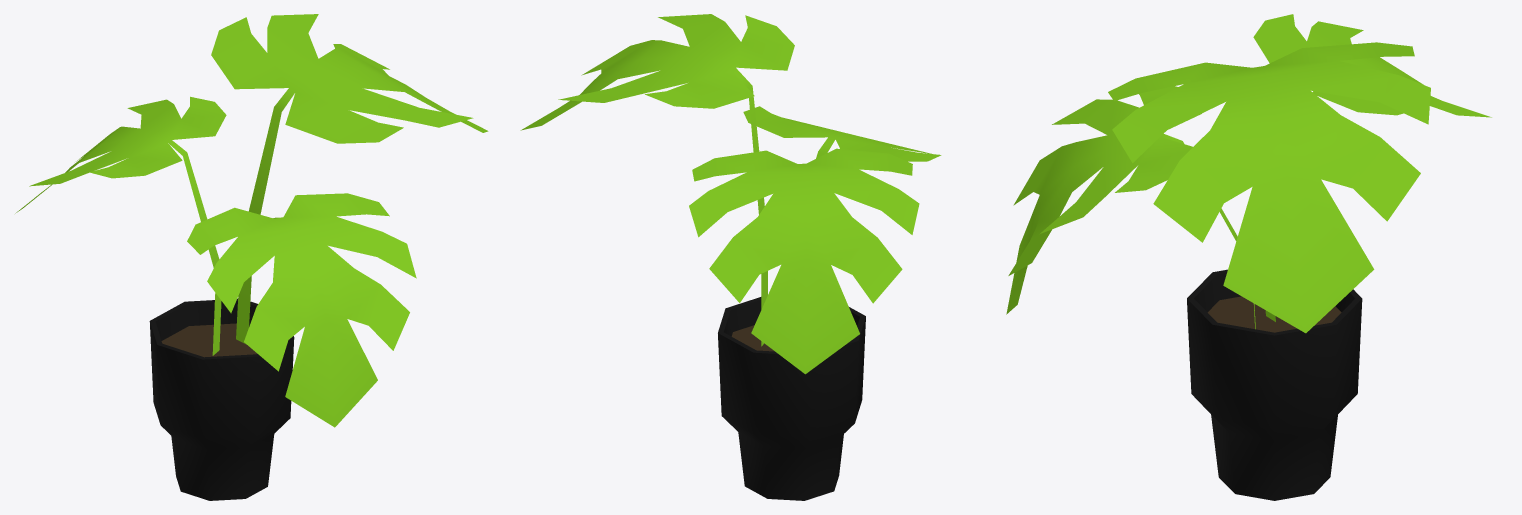
The model's file is q-houseplant-1.glb.
3 renders of one model, left to right at view 1: azimuth 30°, elevation 25°; view 2: azimuth 150°, elevation 25°; view 3: azimuth 270°, elevation 25°, orthographic. The views are drawn at different scales.
Parts seen in each view (by area): view 1: Houseplant_1; view 2: Houseplant_1; view 3: Houseplant_1.
Boxes of the visible parts, box(x1,y1,x2,y2) form: Houseplant_1: box(15, 14, 488, 500); Houseplant_1: box(520, 14, 941, 500); Houseplant_1: box(1006, 14, 1491, 500).
Size of the model in its own units: 0.769 by 0.7174 by 0.6943.
